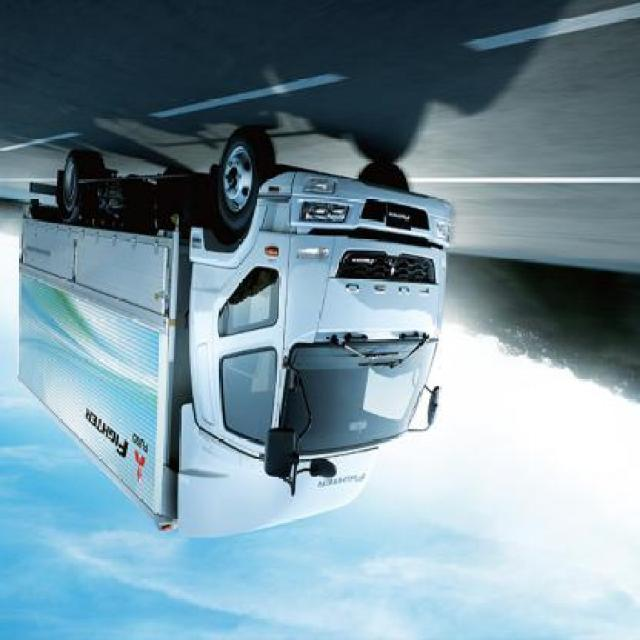truck: (23, 126, 460, 543)
